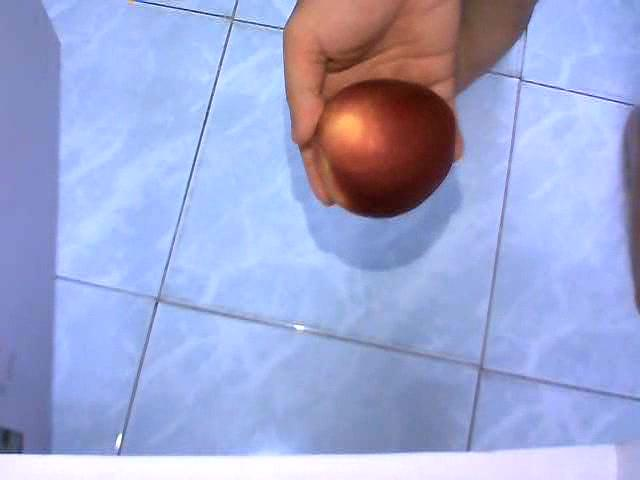apple: (308, 77, 458, 217)
